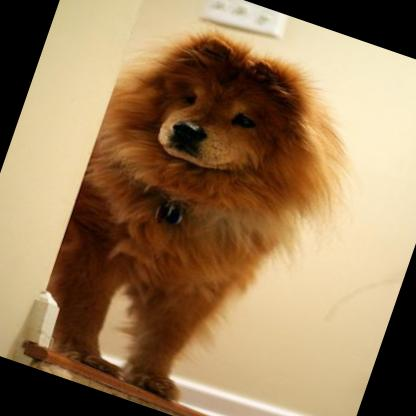chow: (21, 1, 381, 416)
